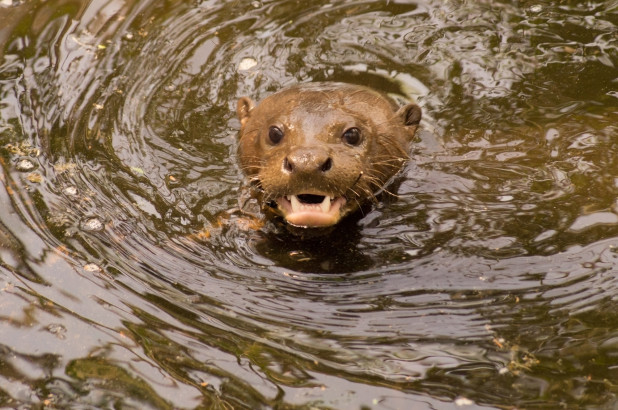otter: (202, 58, 443, 255)
